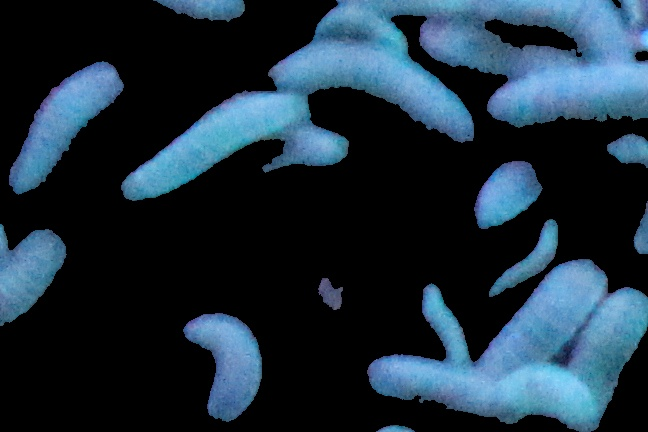larvae: (272, 43, 473, 142), (127, 92, 309, 199), (9, 60, 124, 193), (482, 260, 607, 372), (485, 60, 648, 125), (485, 1, 634, 64), (183, 313, 264, 421), (573, 288, 648, 399), (370, 351, 495, 417), (1, 228, 68, 328), (495, 368, 600, 430), (490, 218, 559, 295), (423, 23, 514, 77), (474, 159, 544, 228), (421, 285, 475, 368), (312, 5, 407, 52), (132, 1, 247, 22)
